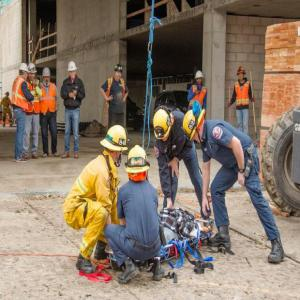red: (237, 68, 246, 83)
white: (19, 63, 29, 79), (68, 62, 77, 79), (43, 68, 51, 85), (196, 71, 204, 87), (29, 64, 37, 80)
yellow: (104, 124, 128, 163), (126, 147, 150, 181), (184, 111, 206, 144), (154, 106, 173, 142)
